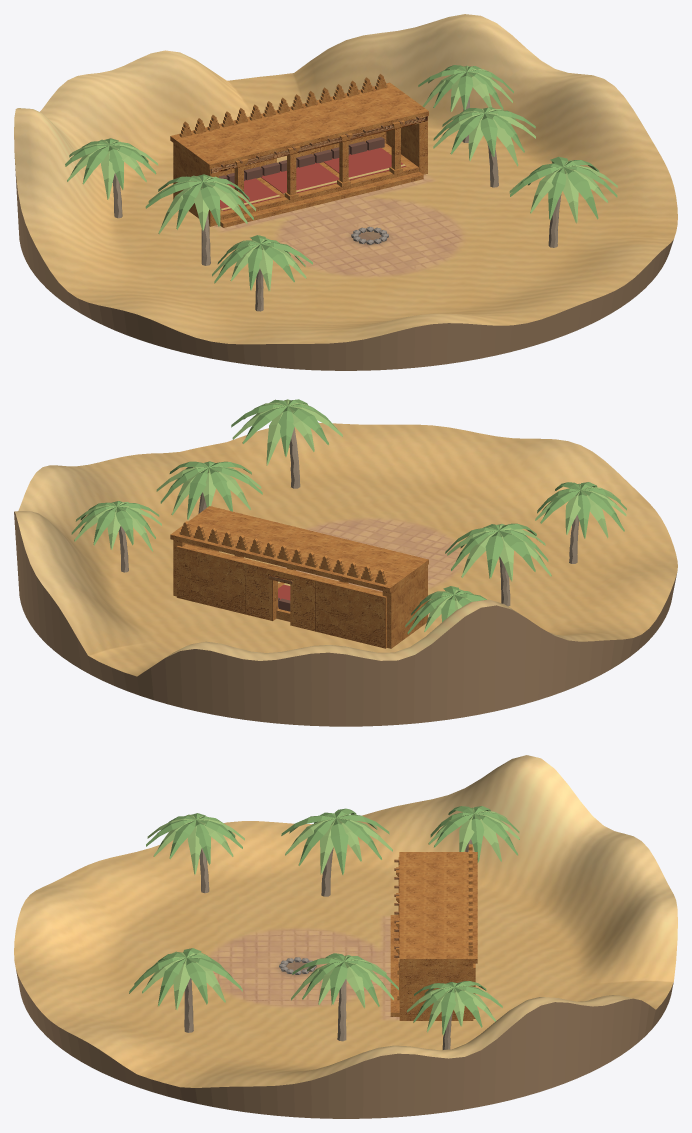
3 views of the same model, one above another, from view 1: azimuth 30°, elevation 25°; view 2: azimuth 150°, elevation 25°; view 3: azimuth 270°, elevation 25° (orthographic).
Visible parts, largest first — view 1: Ground, Plinth, Roof, Dakka, DakkaStep, SideWall.001, Carpet.001, Carpet.002, Beam, SideWall, Carpet, Column.002 (+3 smaller); view 2: Ground, Plinth, Roof, Wall.002, Wall.001, WallDoor.001, SideWall, frond.017, frond.041, frond.063; view 3: Ground, Plinth, Roof, SideWall.001, DakkaStep, frond.027.
Boxes of the visible parts, x1,y1,x2,y2 form: Ground: (14, 14, 677, 344); Plinth: (14, 158, 673, 370); Roof: (170, 82, 428, 169); Dakka: (220, 143, 418, 219); DakkaStep: (220, 172, 423, 227); SideWall.001: (386, 116, 427, 174); Carpet.001: (261, 162, 339, 193); Carpet.002: (324, 147, 406, 180); Beam: (211, 116, 427, 173); SideWall: (173, 143, 218, 226); Carpet: (220, 178, 280, 210); Column.002: (284, 146, 300, 200); Ground: (14, 423, 677, 676); Plinth: (14, 511, 676, 726); Roof: (170, 506, 428, 592); Wall.002: (176, 544, 250, 614); Wall.001: (316, 577, 386, 648); WallDoor.001: (246, 560, 320, 631); SideWall: (382, 565, 427, 648); frond.017: (485, 530, 503, 578); frond.041: (187, 468, 208, 519); frond.063: (278, 406, 294, 456); Ground: (14, 755, 677, 1087); Plinth: (16, 970, 673, 1118); Roof: (399, 852, 477, 963); SideWall.001: (399, 963, 473, 1020); DakkaStep: (390, 915, 399, 1016); frond.027: (330, 818, 348, 875).
Size of the model in its own units: 33 by 5.97 by 33.
19 materials, 10 textured.
